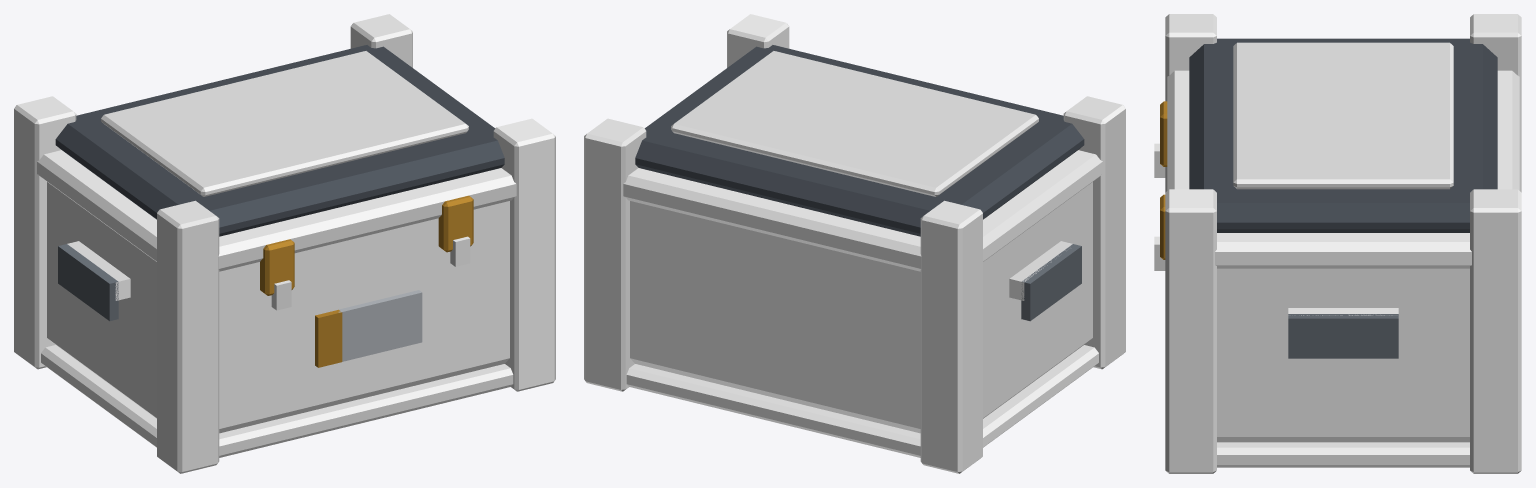
Rendered from Crate_Storage.fbx.
The picture shows the model from 3 angles, left to right: view 1: azimuth 30°, elevation 25°; view 2: azimuth 150°, elevation 25°; view 3: azimuth 270°, elevation 25°; orthographic projection. The views are drawn at different scales.
Parts seen in each view (by area): view 1: Crate_Storage; view 2: Crate_Storage; view 3: Crate_Storage.
Boxes of the visible parts, <box> form: Crate_Storage: <box>14,14,555,473</box>; Crate_Storage: <box>584,14,1125,473</box>; Crate_Storage: <box>1154,14,1521,473</box>.
Size of the model in its own units: 1.35 by 0.8 by 1.
